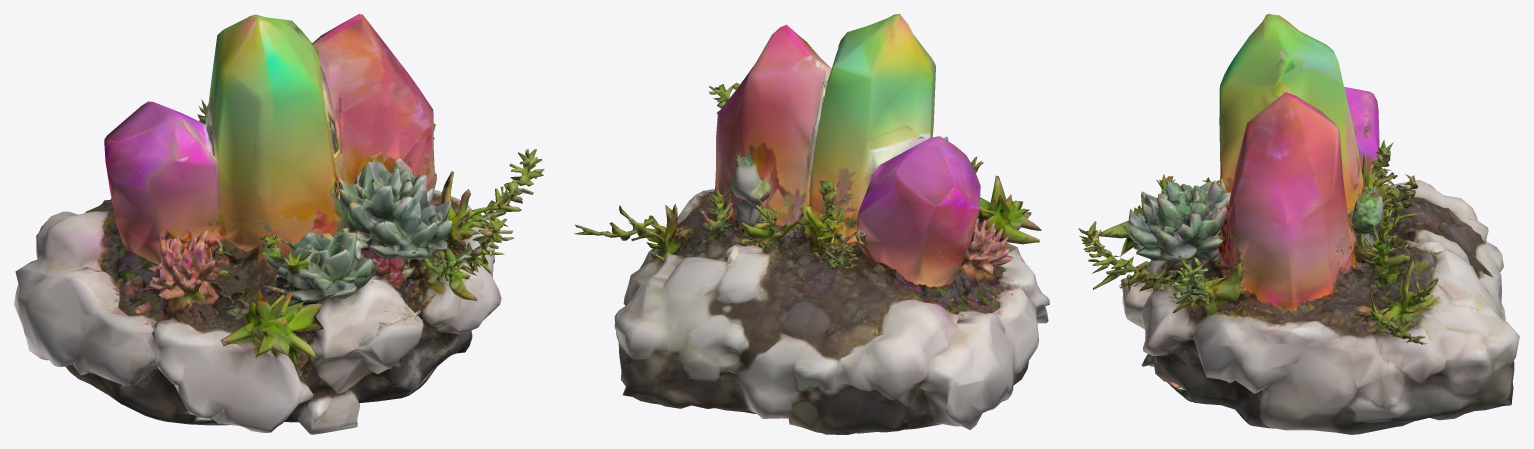
File: a_large_rainbow_cryst.glb
The picture shows the model from 3 angles, left to right: view 1: azimuth 30°, elevation 25°; view 2: azimuth 150°, elevation 25°; view 3: azimuth 270°, elevation 25°; orthographic projection. The views are drawn at different scales.
Parts seen in each view (by area): view 1: a_large_rainbow_cryst; view 2: a_large_rainbow_cryst; view 3: a_large_rainbow_cryst.
Boxes of the visible parts, x1,y1,x2,y2 form: a_large_rainbow_cryst: [14, 14, 544, 434]; a_large_rainbow_cryst: [574, 14, 1049, 434]; a_large_rainbow_cryst: [1078, 14, 1519, 434].
Bounding box in the file's own units: 1.98 × 1.65 × 1.93.
1 material, 1 textured.
